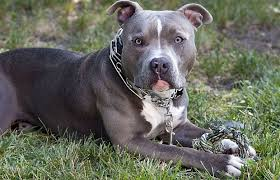Perro Pitbull: (63, 1, 266, 169)
